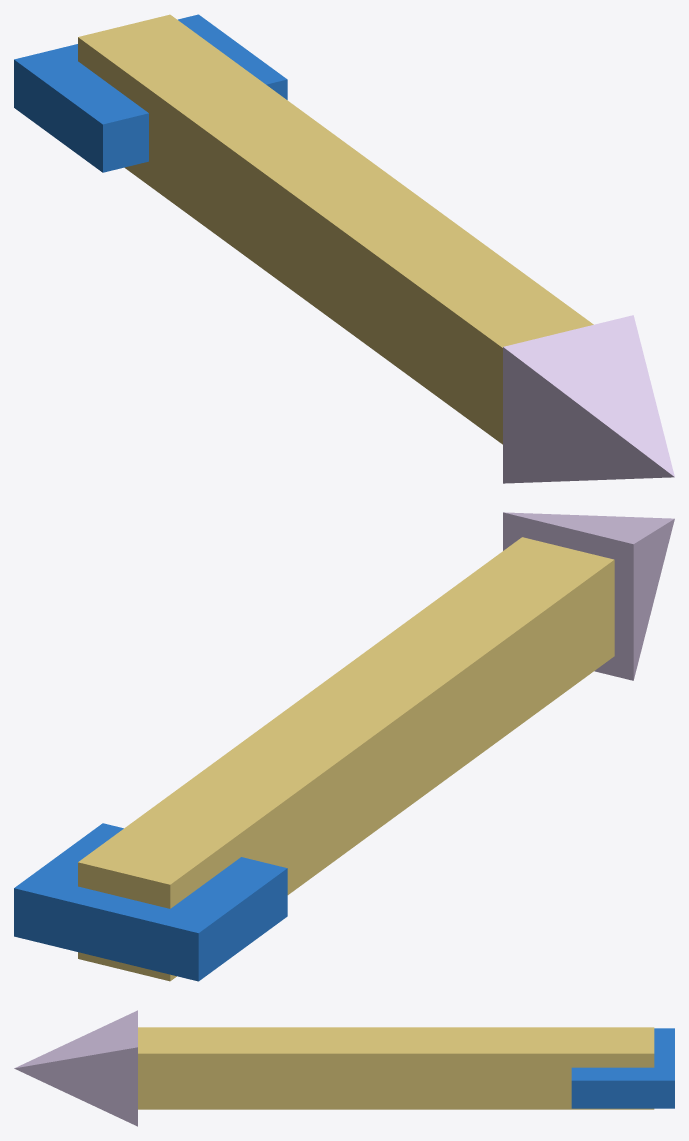
File: arrow.glb
3 renders of one model, top to bottom at view 1: azimuth 30°, elevation 25°; view 2: azimuth 150°, elevation 25°; view 3: azimuth 270°, elevation 25°, orthographic. The views are drawn at different scales.
Parts seen in each view (by area): view 1: Model; view 2: Model; view 3: Model.
Boxes of the visible parts, bbox=[...] form: Model: bbox=[14, 14, 674, 483]; Model: bbox=[14, 512, 674, 981]; Model: bbox=[14, 1010, 674, 1126].
Bounding box in the file's own units: 0.12 × 0.0849 × 0.64.
